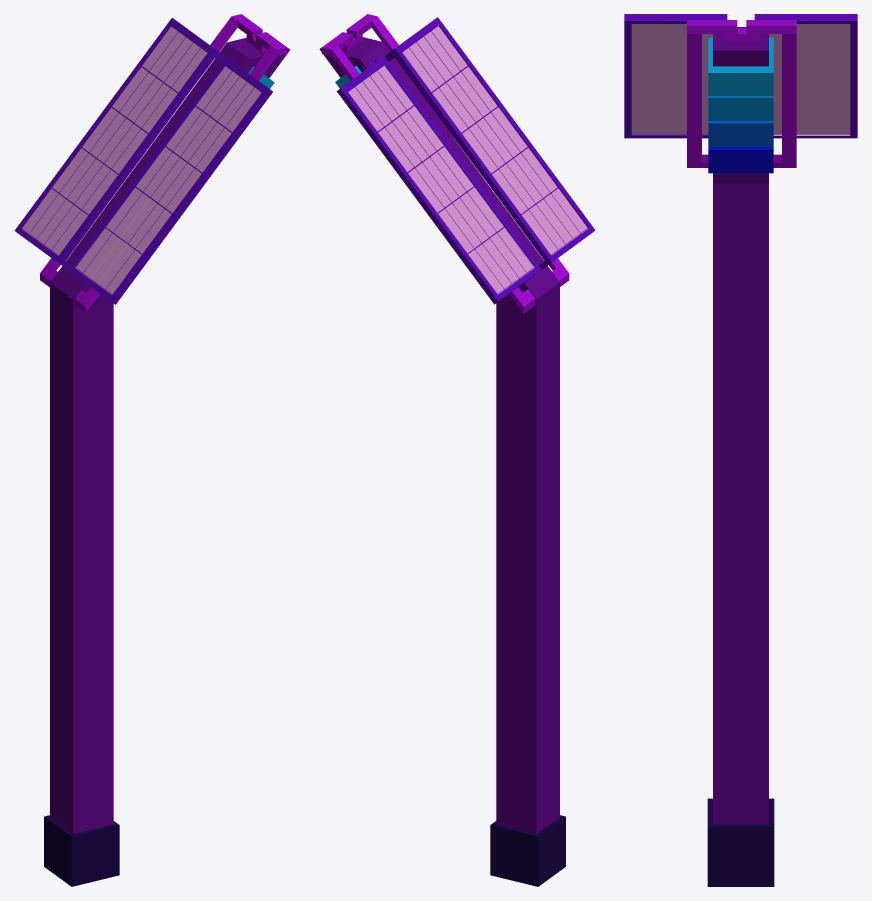
File: futuristic_lamp.fbx
3 renders of one model, left to right at view 1: azimuth 30°, elevation 25°; view 2: azimuth 150°, elevation 25°; view 3: azimuth 270°, elevation 25°, orthographic. The views are drawn at different scales.
Visible parts, largest first — view 1: Cube.001; view 2: Cube.001; view 3: Cube.001.
Part boxes in pixels (<box>): Cube.001: <box>14,14,290,886</box>; Cube.001: <box>319,14,595,886</box>; Cube.001: <box>624,14,857,886</box>.
Size of the model in its own units: 173 by 594 by 132.
